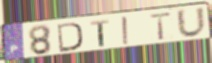8: (27, 24, 54, 57)
D: (56, 22, 84, 54)
I: (120, 15, 131, 46)
T: (148, 11, 173, 42), (90, 19, 111, 48)
U: (176, 6, 209, 40)
